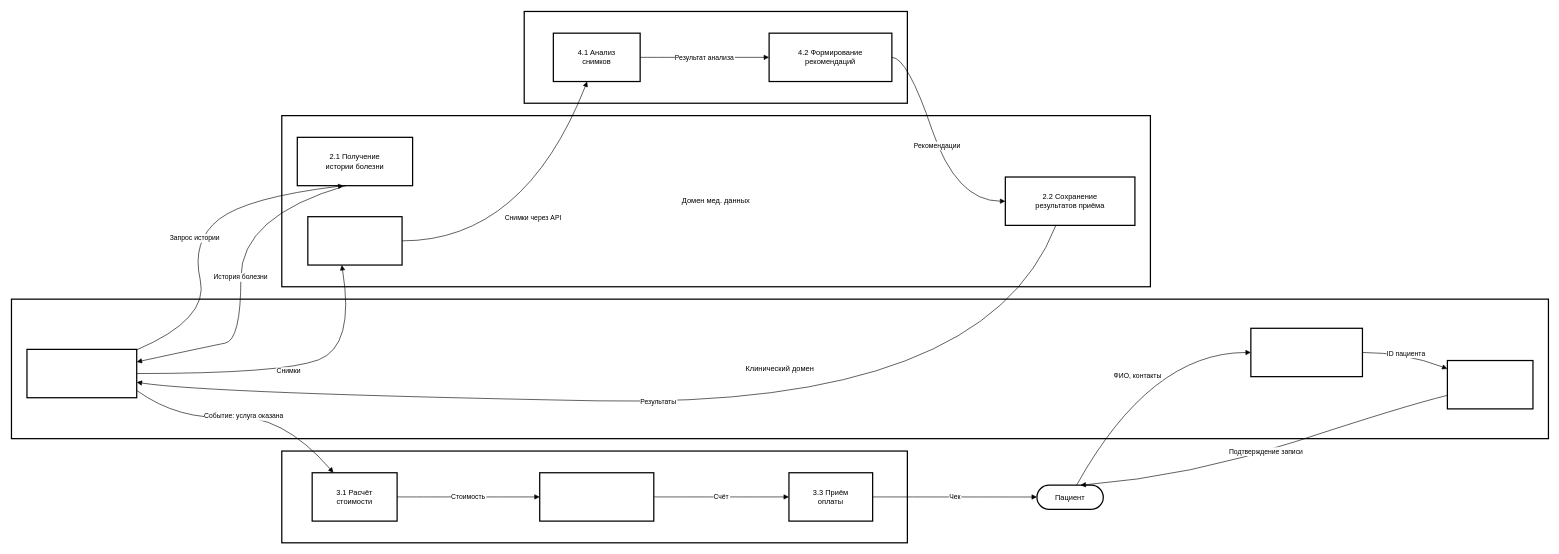
Some shapes in this 1559 by 554 pixel diagram are drawn without their labels. The shapes that lost their labels are listed below. From the top down, each one's centre as x and y in pixels, then its label:
the point at 354,240: 2.3 Загрузка снимков
the point at 1306,352: 1.1 Регистрация пациента
the point at 81,373: 1.3 Проведение приёма
the point at 1489,384: 1.2 Запись на приём
the point at 596,496: 3.2 Выставление счёта
